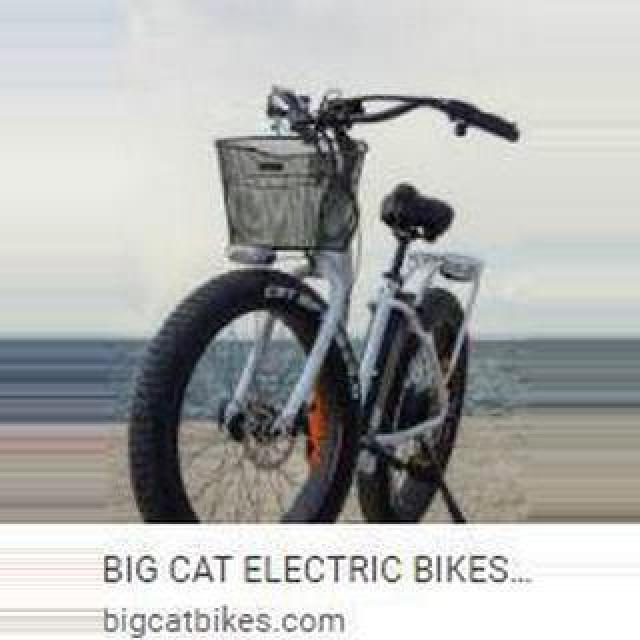Person: (125, 87, 525, 523)
